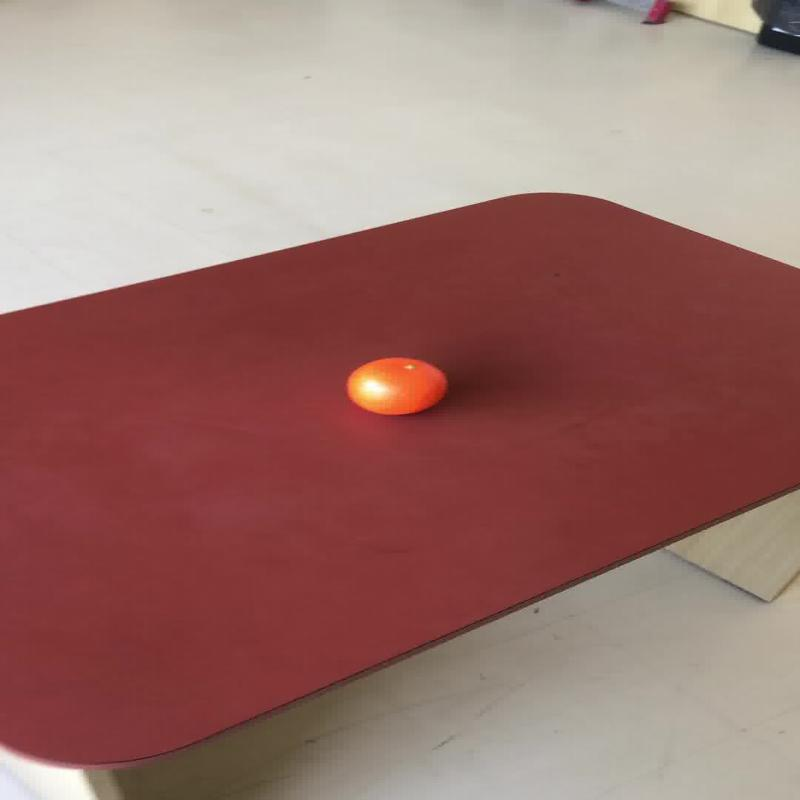orange: (344, 356, 447, 416)
